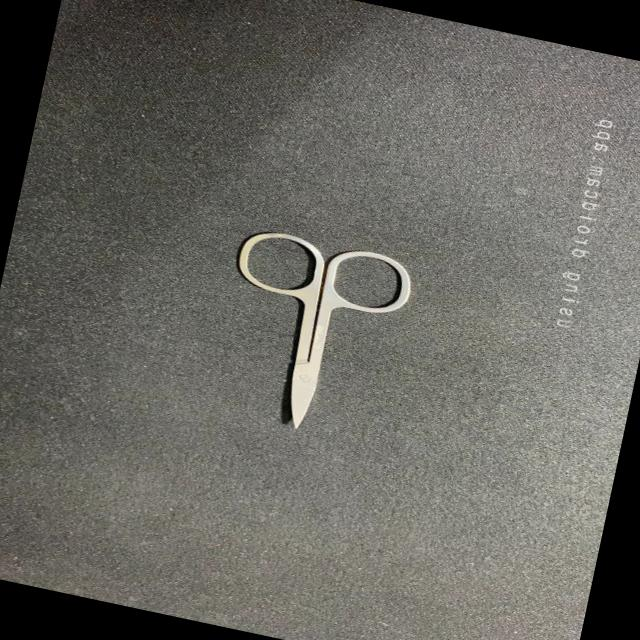scissor: (183, 215, 426, 452)
